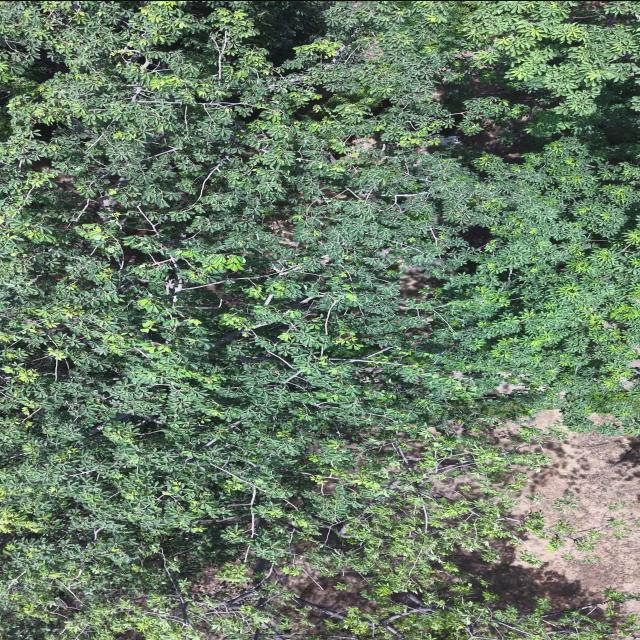DRY_AREA: (450, 524, 639, 606), (453, 524, 639, 606), (451, 525, 639, 606), (460, 524, 639, 606)
VEGETATION_TREE: (0, 1, 639, 639)
